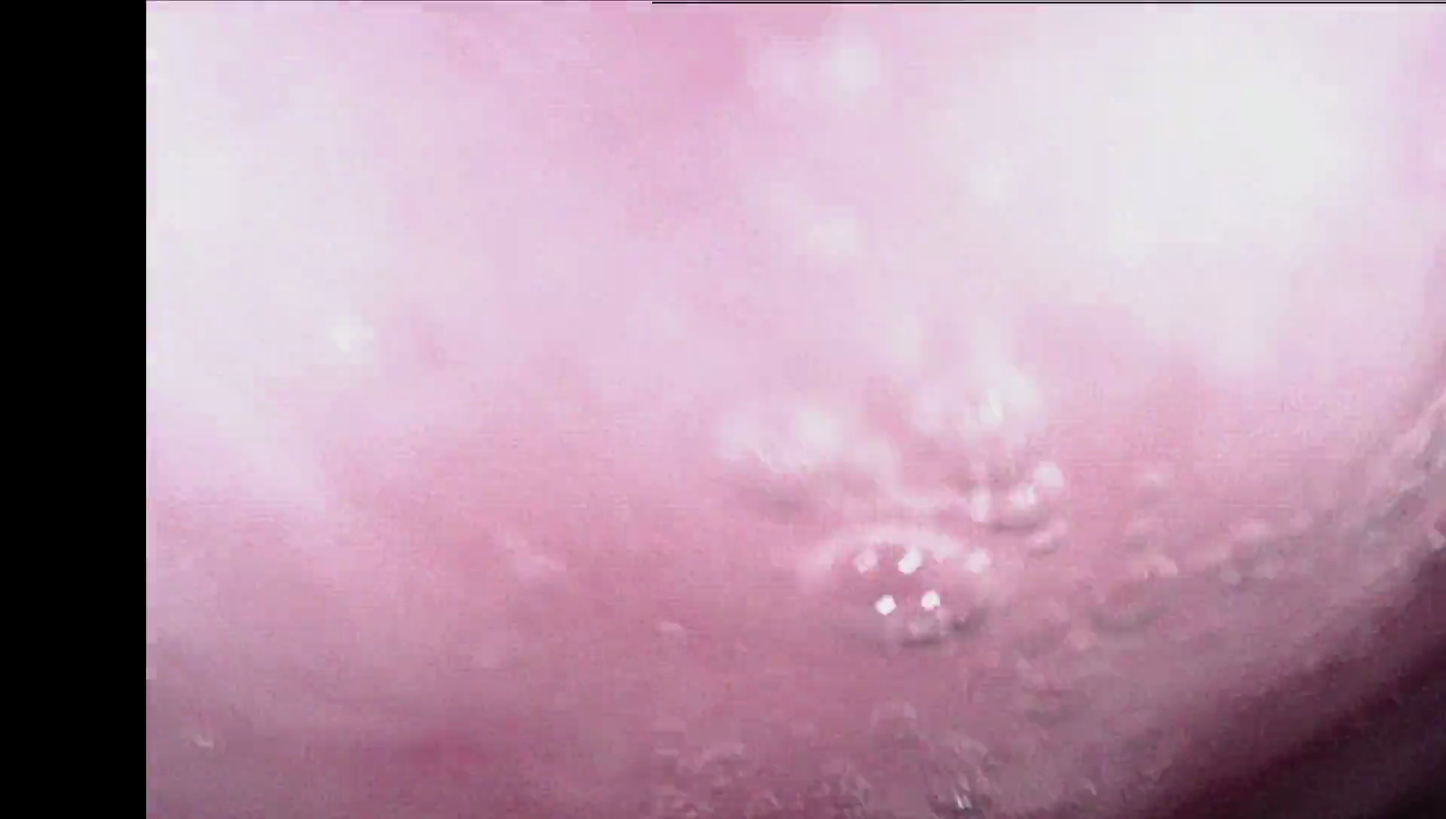close_wall: (151, 0, 1446, 571)
next: (1233, 631, 1446, 819)
